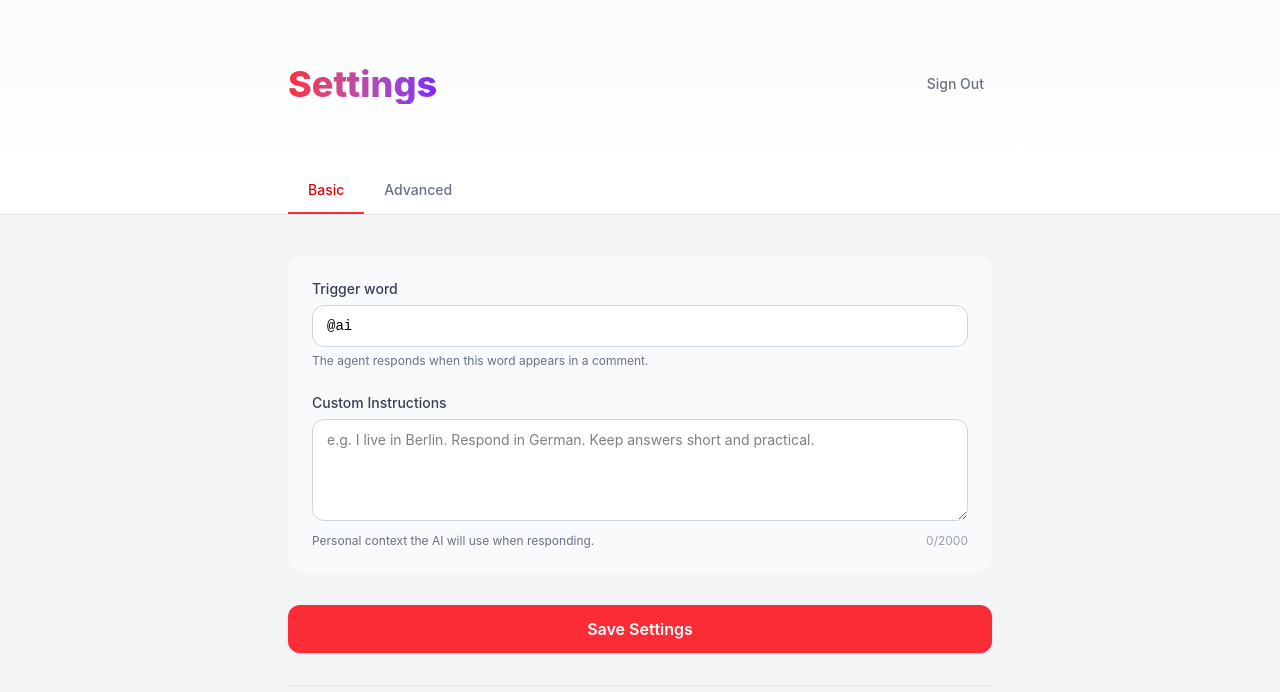
Scenario: Settings: accessibility › advanced tab form inputs have associated labels
The width and height of the screenshot is (1280, 692).
Expected: the heading "Settings" is shown, x1=288 y1=64 x2=437 y2=104
Click the tab "Advanced" at [418, 191], box x1=364 y1=168 x2=472 y2=214
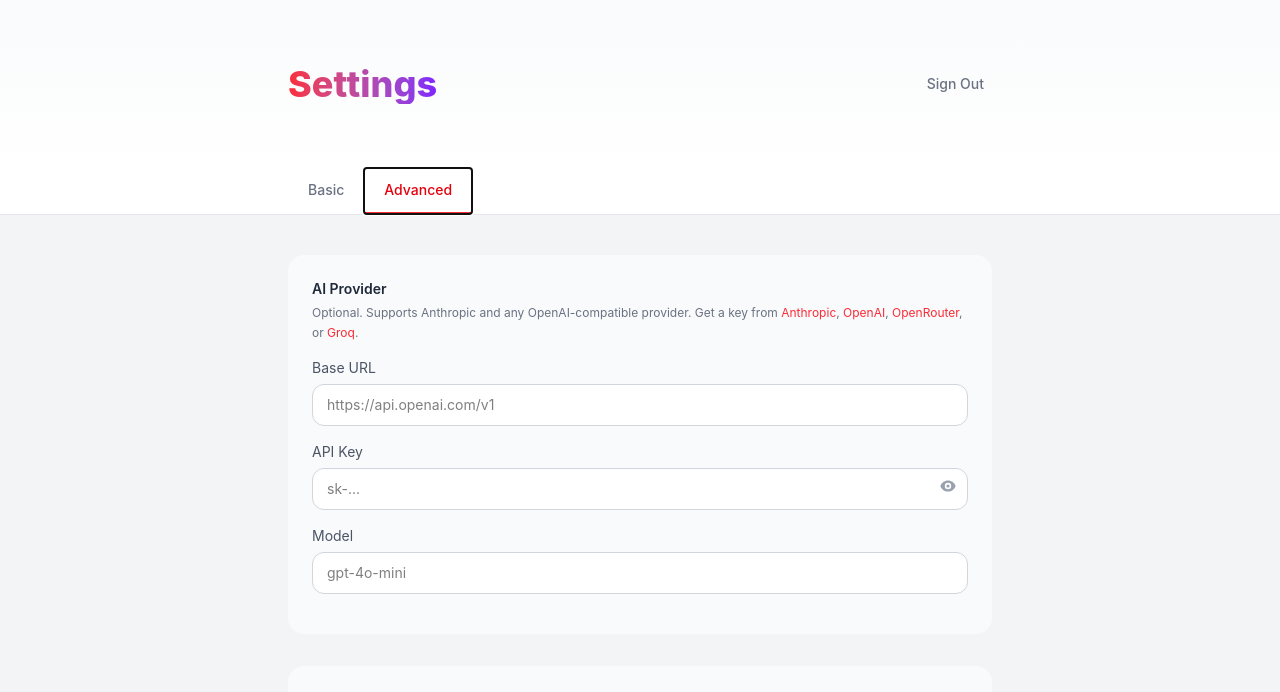
Expected: the field labelled "Base URL" is shown, x1=312 y1=384 x2=968 y2=426
Expected: the field labelled "Model" is shown, x1=312 y1=552 x2=968 y2=594
